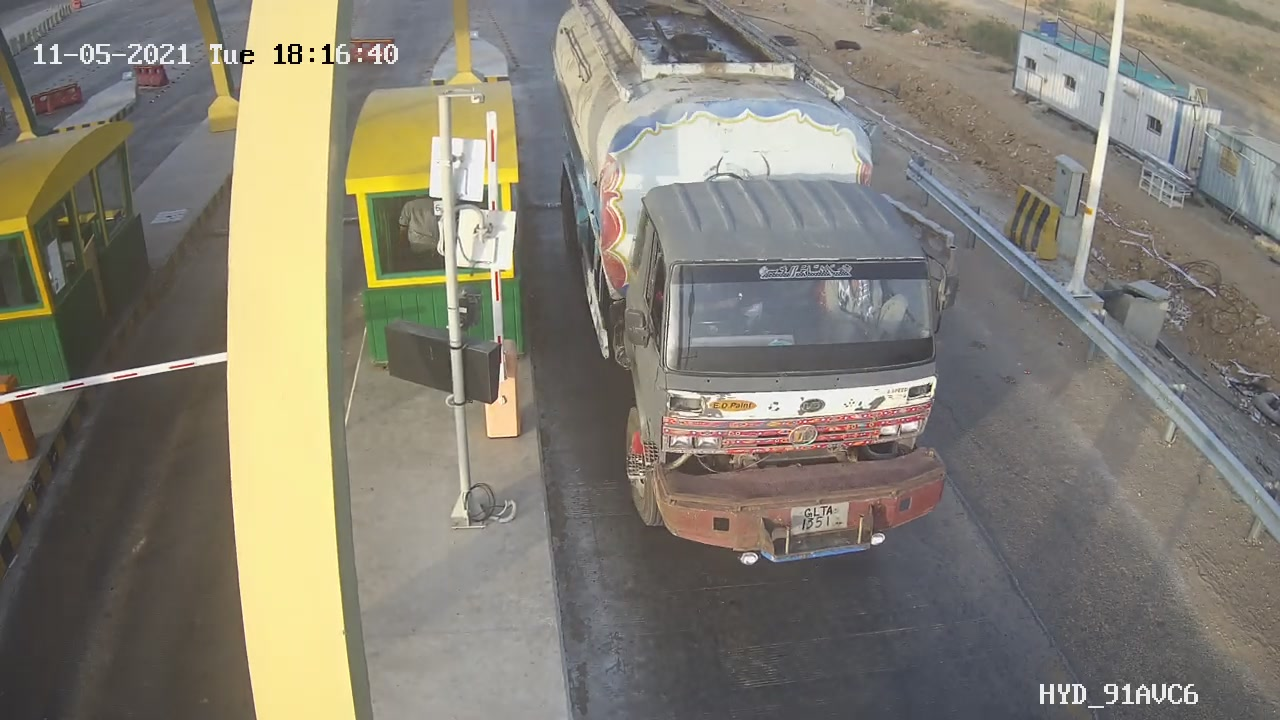F6: (549, 1, 939, 568)
